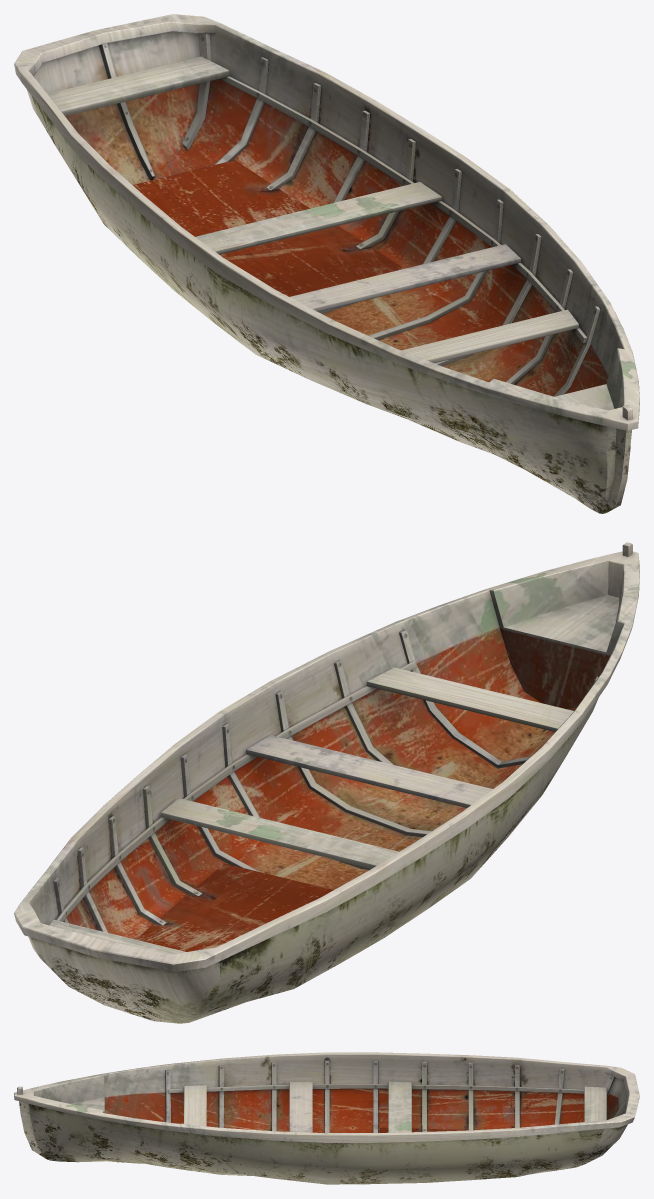
File: boat1.glb
3 renders of one model, top to bottom at view 1: azimuth 30°, elevation 25°; view 2: azimuth 150°, elevation 25°; view 3: azimuth 270°, elevation 25°, orthographic. The views are drawn at different scales.
Parts seen in each view (by area): view 1: Object_2; view 2: Object_2; view 3: Object_2.
Part boxes in pixels (x1,y1,x2,y2): Object_2: (14,14,639,513); Object_2: (14,542,639,1023); Object_2: (14,1052,639,1184).
Bounding box in the file's own units: 106 × 46.01 × 339.
1 material, 1 textured.
